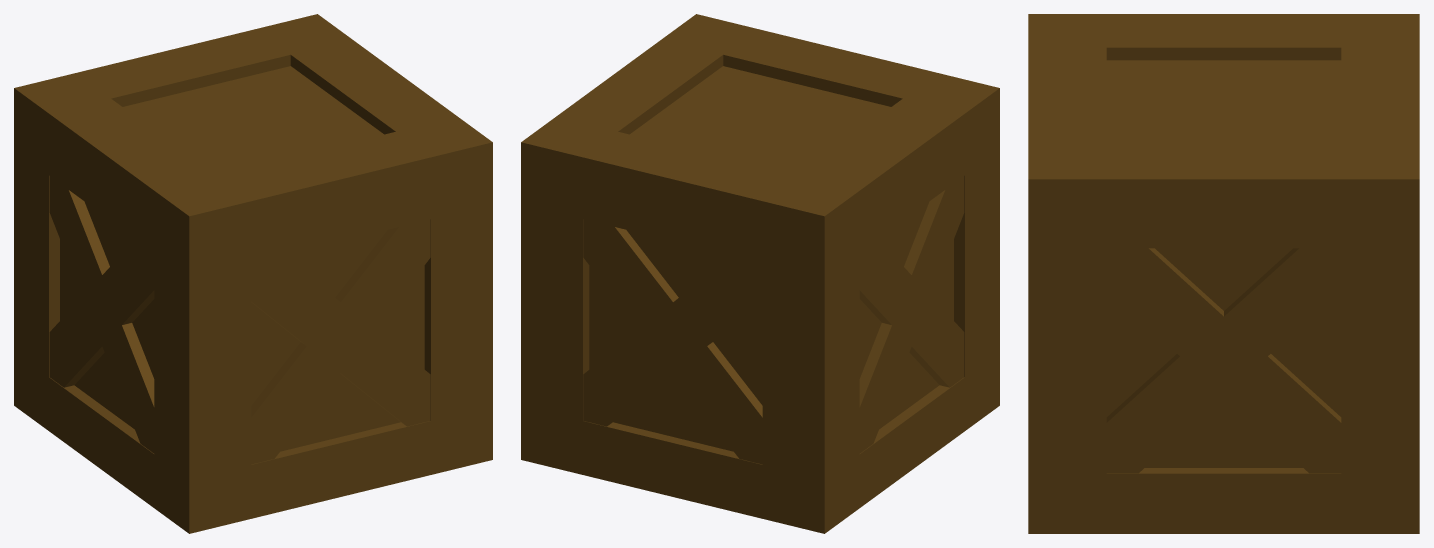
File: WoodenCrate_01.glb
3 renders of one model, left to right at view 1: azimuth 30°, elevation 25°; view 2: azimuth 150°, elevation 25°; view 3: azimuth 270°, elevation 25°, orthographic. The views are drawn at different scales.
Parts seen in each view (by area): view 1: WoodCrate_01; view 2: WoodCrate_01; view 3: WoodCrate_01.
Part boxes in pixels (x1=…): WoodCrate_01: x1=14, y1=14, x2=492, y2=533; WoodCrate_01: x1=521, y1=14, x2=999, y2=533; WoodCrate_01: x1=1028, y1=14, x2=1419, y2=533.
Size of the model in its own units: 1.19 by 1.19 by 1.19.
